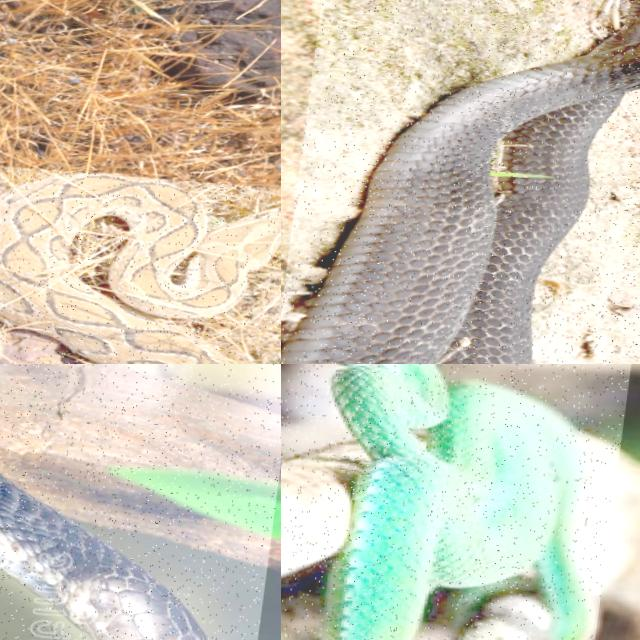Daboia siamensis: (0, 174, 280, 363)
Naja siamensis: (281, 0, 639, 363), (0, 473, 207, 639)
Trimeresurus macrops: (324, 364, 595, 639)
snake: (281, 0, 639, 363), (324, 364, 595, 639), (0, 174, 280, 363), (0, 473, 207, 639)
